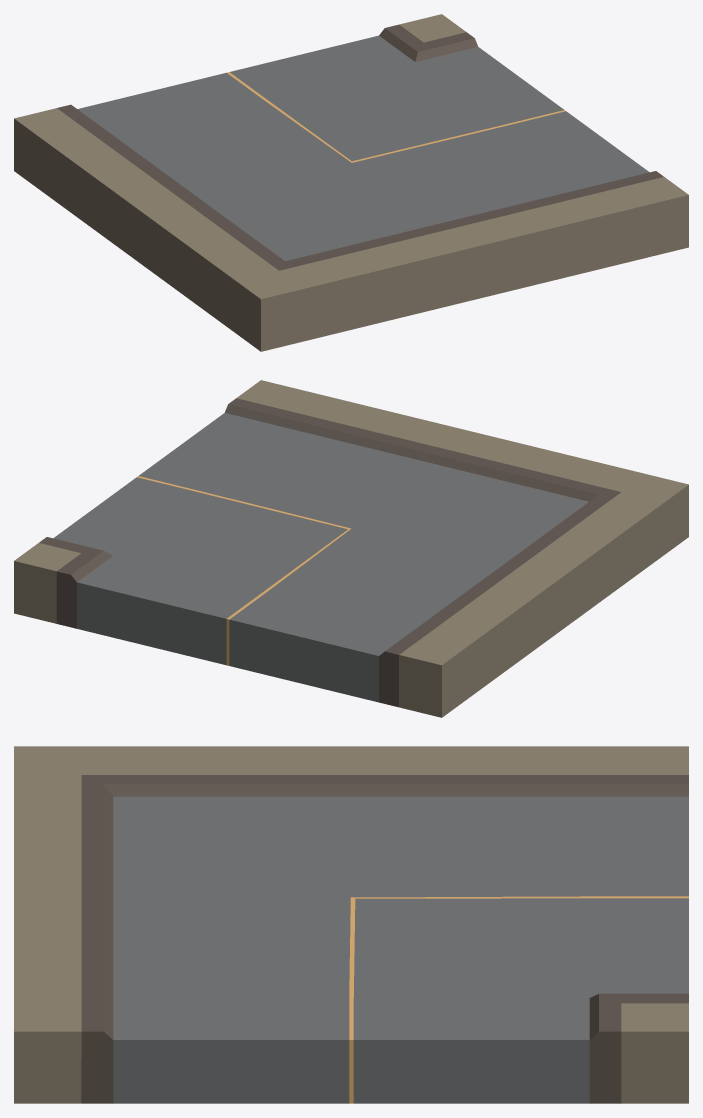
Rendered from Curva.fbx.
3 views of the same model, one above another, from view 1: azimuth 30°, elevation 25°; view 2: azimuth 150°, elevation 25°; view 3: azimuth 270°, elevation 25° (orthographic). The views are drawn at different scales.
Parts seen in each view (by area): view 1: Curva; view 2: Curva; view 3: Curva.
Boxes of the visible parts, bbox=[...] form: Curva: bbox=[14, 14, 688, 351]; Curva: bbox=[14, 380, 688, 717]; Curva: bbox=[14, 746, 688, 1103].
Bounding box in the file's own units: 200 × 23.48 × 200.
